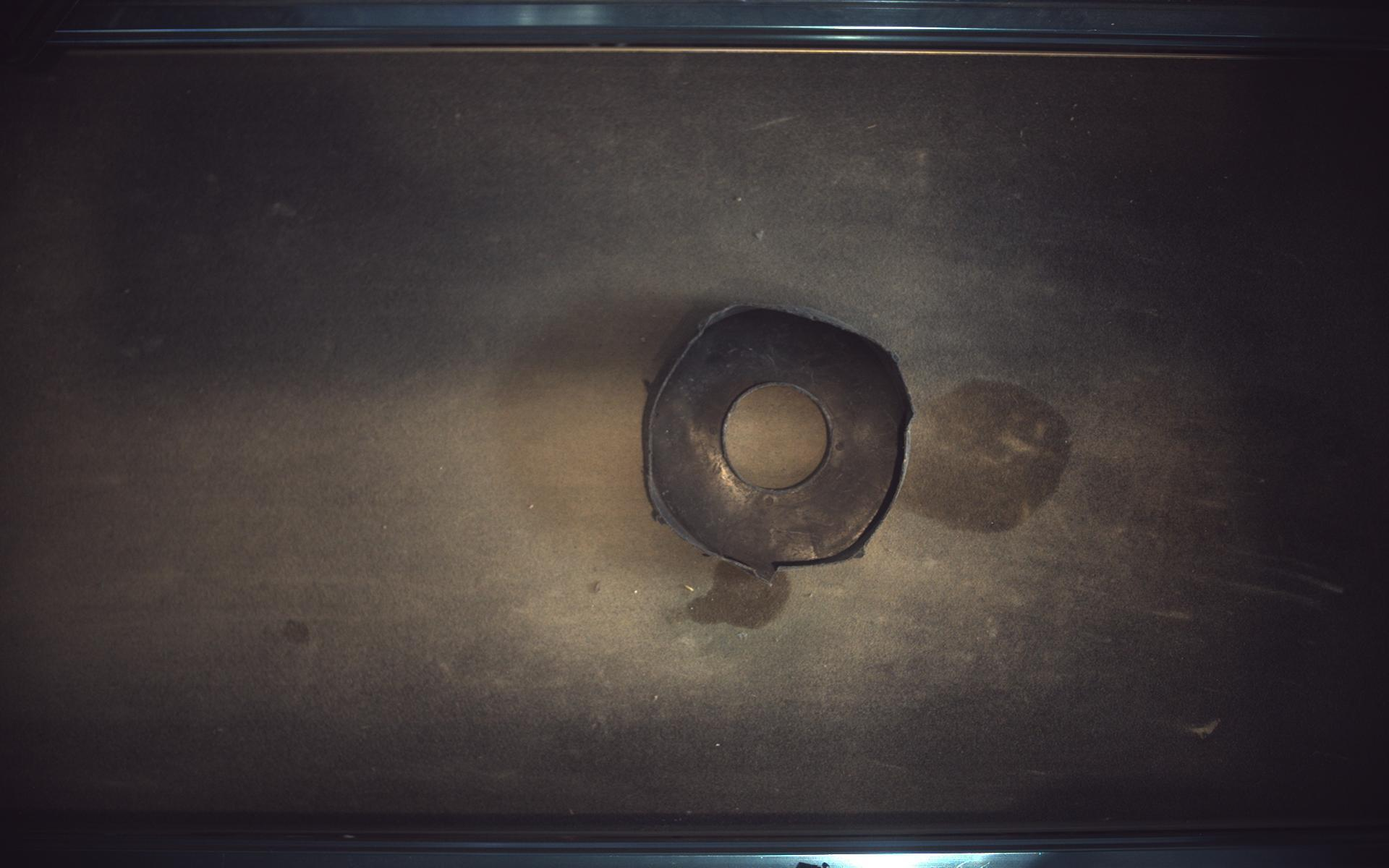plastic: (644, 305, 914, 582)
